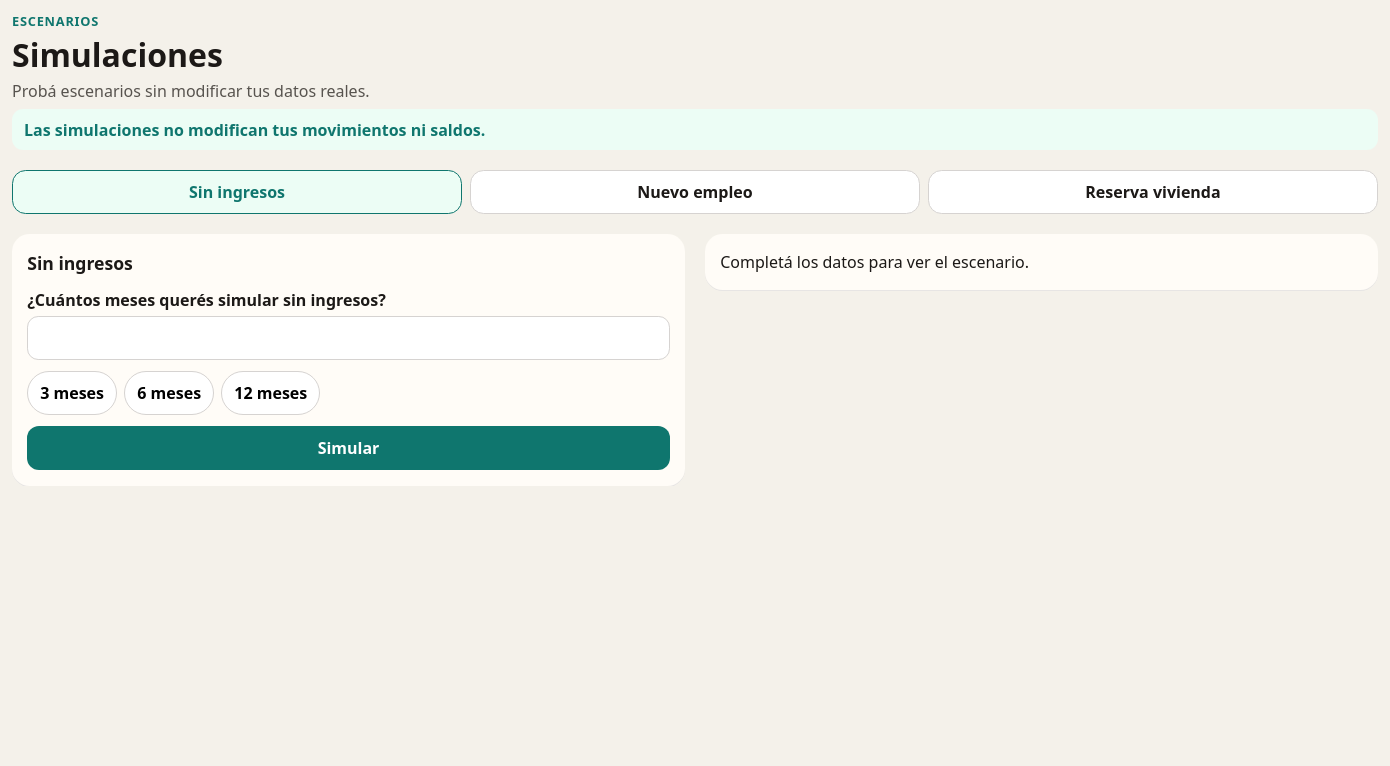
Test case: SimulationsPage › does not mix results when switching scenarios
This screenshot has width=1390, height=766.
Type "6" into the field labelled "¿Cuántos meses querés simular sin ingresos?". click: x=348, y=338
box: top-left (27, 316), bottom-right (670, 360)
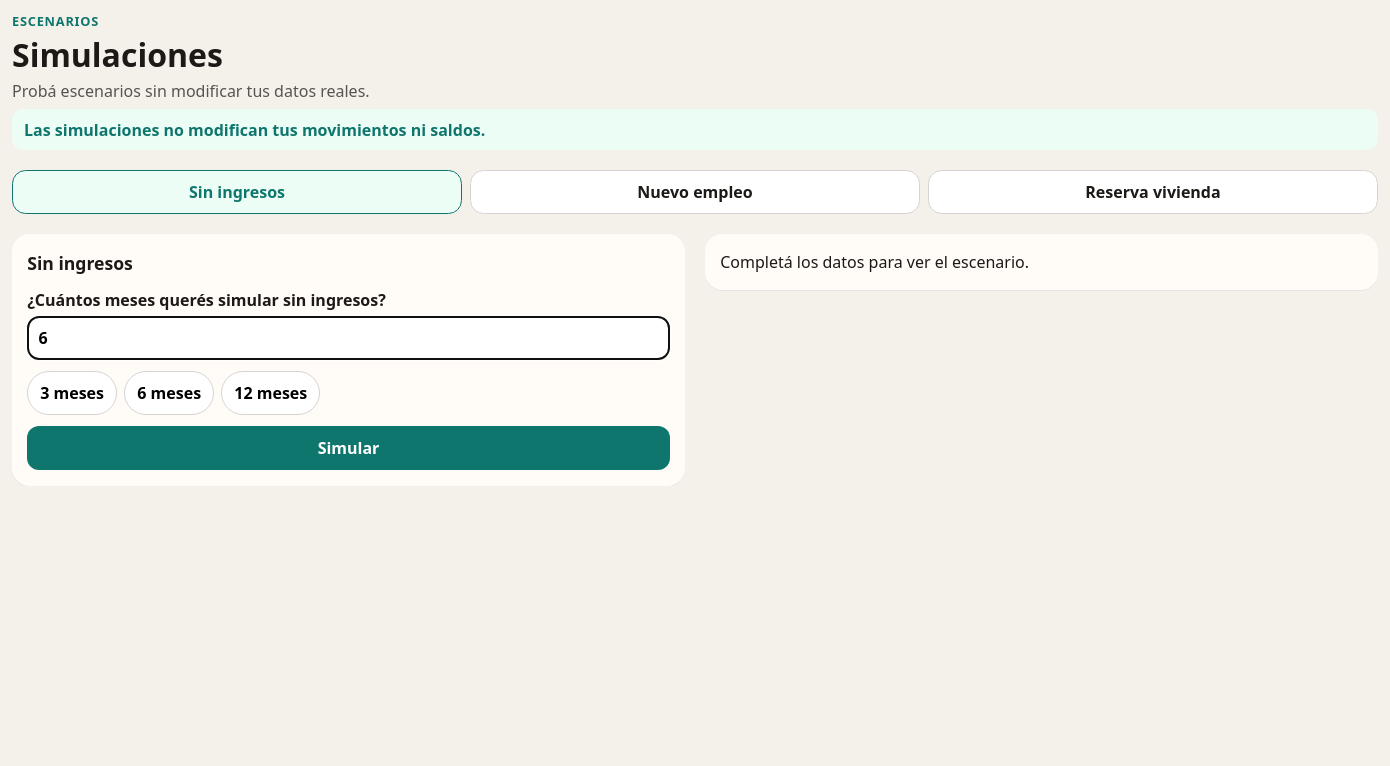
Click the button "Simular". click: x=348, y=448
box: top-left (27, 426), bottom-right (670, 470)
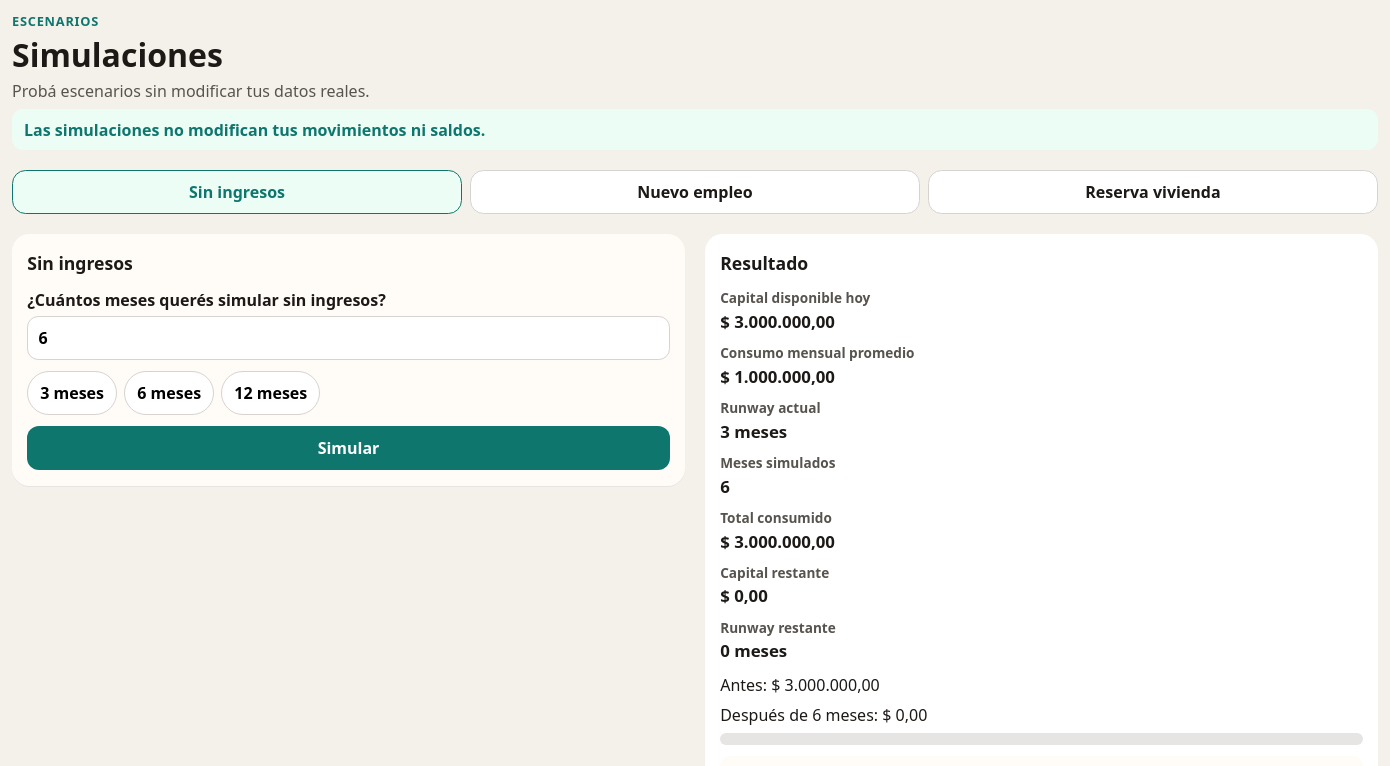
Click the radio button labelled "Nuevo empleo". click: x=695, y=192
box: top-left (470, 170), bottom-right (920, 214)
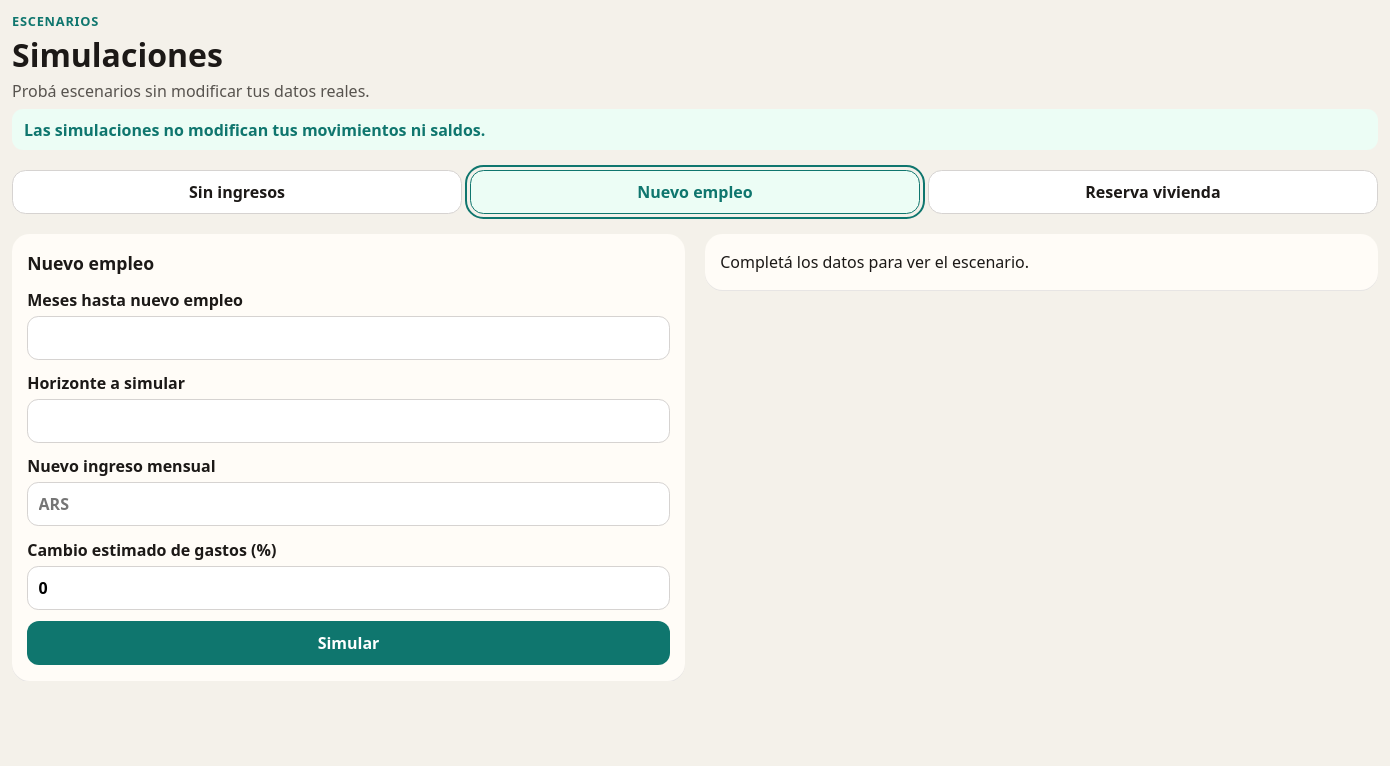
Check: the field labelled "Meses hasta nuevo empleo" is shown, box top-left (27, 316), bottom-right (670, 360)
Check: the text "Completá los datos para ver el escenario." is shown, box top-left (720, 251), bottom-right (1029, 273)
